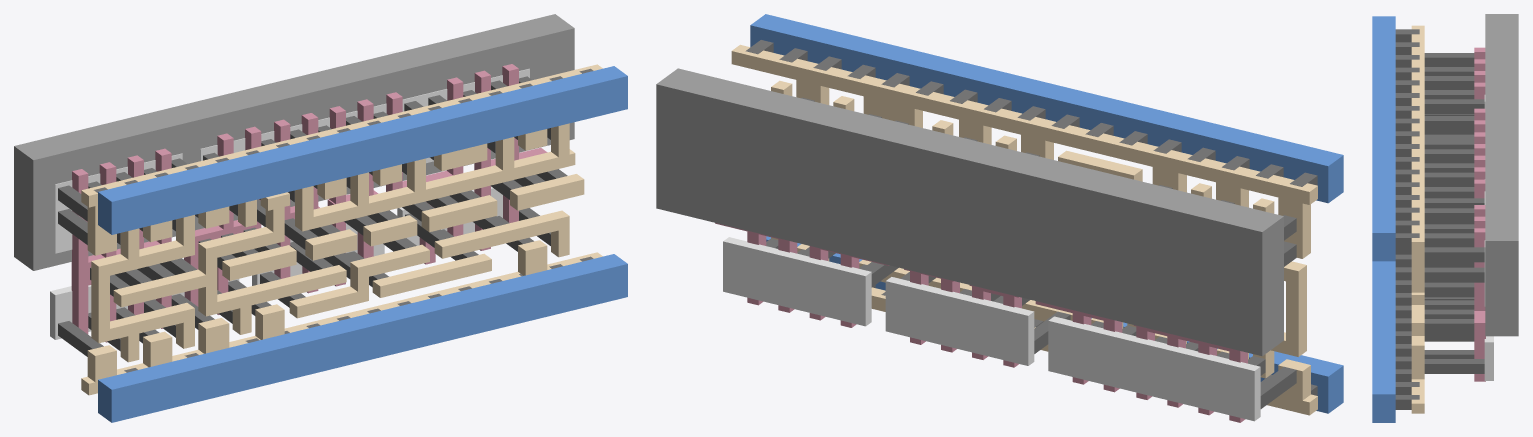
File: sky130_fd_sc_hd__a41o_4.gds.gltf
The picture shows the model from 3 angles, left to right: view 1: azimuth 30°, elevation 25°; view 2: azimuth 150°, elevation 25°; view 3: azimuth 270°, elevation 25°; orthographic projection. The views are drawn at different scales.
Parts seen in each view (by area): view 1: sky130_fd_sc_hd__a41o_4_li1, sky130_fd_sc_hd__a41o_4_met1, sky130_fd_sc_hd__a41o_4_nwell, sky130_fd_sc_hd__a41o_4_licon, sky130_fd_sc_hd__a41o_4_poly, sky130_fd_sc_hd__a41o_4_diff, sky130_fd_sc_hd__a41o_4_mcon; view 2: sky130_fd_sc_hd__a41o_4_nwell, sky130_fd_sc_hd__a41o_4_diff, sky130_fd_sc_hd__a41o_4_li1, sky130_fd_sc_hd__a41o_4_met1, sky130_fd_sc_hd__a41o_4_poly, sky130_fd_sc_hd__a41o_4_mcon, sky130_fd_sc_hd__a41o_4_licon; view 3: sky130_fd_sc_hd__a41o_4_licon, sky130_fd_sc_hd__a41o_4_nwell, sky130_fd_sc_hd__a41o_4_met1, sky130_fd_sc_hd__a41o_4_mcon, sky130_fd_sc_hd__a41o_4_li1, sky130_fd_sc_hd__a41o_4_poly, sky130_fd_sc_hd__a41o_4_diff.
Boxes of the visible parts, bbox=[...] form: sky130_fd_sc_hd__a41o_4_li1: bbox=[81, 64, 602, 395]; sky130_fd_sc_hd__a41o_4_met1: bbox=[98, 66, 627, 422]; sky130_fd_sc_hd__a41o_4_nwell: bbox=[14, 14, 574, 270]; sky130_fd_sc_hd__a41o_4_licon: bbox=[58, 76, 567, 356]; sky130_fd_sc_hd__a41o_4_poly: bbox=[71, 64, 547, 342]; sky130_fd_sc_hd__a41o_4_diff: bbox=[50, 68, 529, 339]; sky130_fd_sc_hd__a41o_4_mcon: bbox=[94, 68, 593, 372]; sky130_fd_sc_hd__a41o_4_nwell: bbox=[656, 68, 1283, 356]; sky130_fd_sc_hd__a41o_4_diff: bbox=[723, 237, 1260, 421]; sky130_fd_sc_hd__a41o_4_li1: bbox=[731, 44, 1317, 415]; sky130_fd_sc_hd__a41o_4_met1: bbox=[750, 14, 1343, 413]; sky130_fd_sc_hd__a41o_4_poly: bbox=[715, 223, 1247, 422]; sky130_fd_sc_hd__a41o_4_mcon: bbox=[745, 40, 1317, 395]; sky130_fd_sc_hd__a41o_4_licon: bbox=[766, 97, 1296, 408]; sky130_fd_sc_hd__a41o_4_licon: bbox=[1424, 53, 1484, 373]; sky130_fd_sc_hd__a41o_4_nwell: bbox=[1485, 14, 1518, 336]; sky130_fd_sc_hd__a41o_4_met1: bbox=[1372, 16, 1395, 422]; sky130_fd_sc_hd__a41o_4_mcon: bbox=[1395, 29, 1419, 409]; sky130_fd_sc_hd__a41o_4_li1: bbox=[1411, 25, 1424, 413]; sky130_fd_sc_hd__a41o_4_poly: bbox=[1474, 47, 1485, 381]; sky130_fd_sc_hd__a41o_4_diff: bbox=[1484, 95, 1493, 380].
Bounding box in the file's own units: 8.2 × 3.2 × 2.24.
